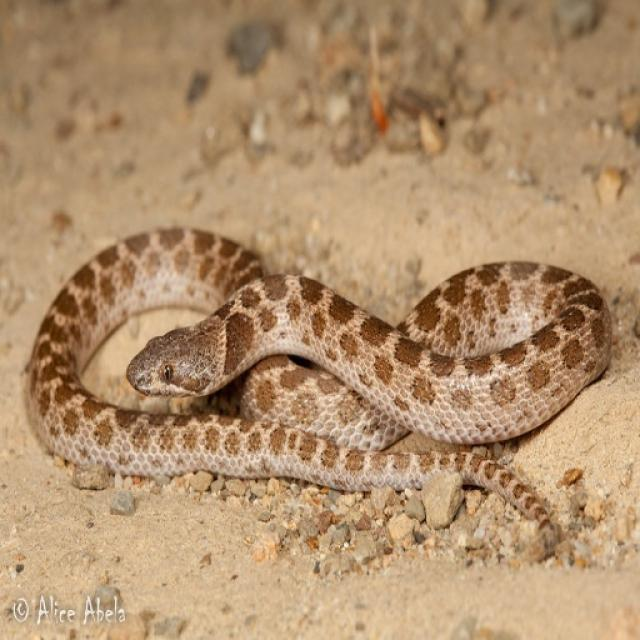snake: (25, 218, 623, 565)
